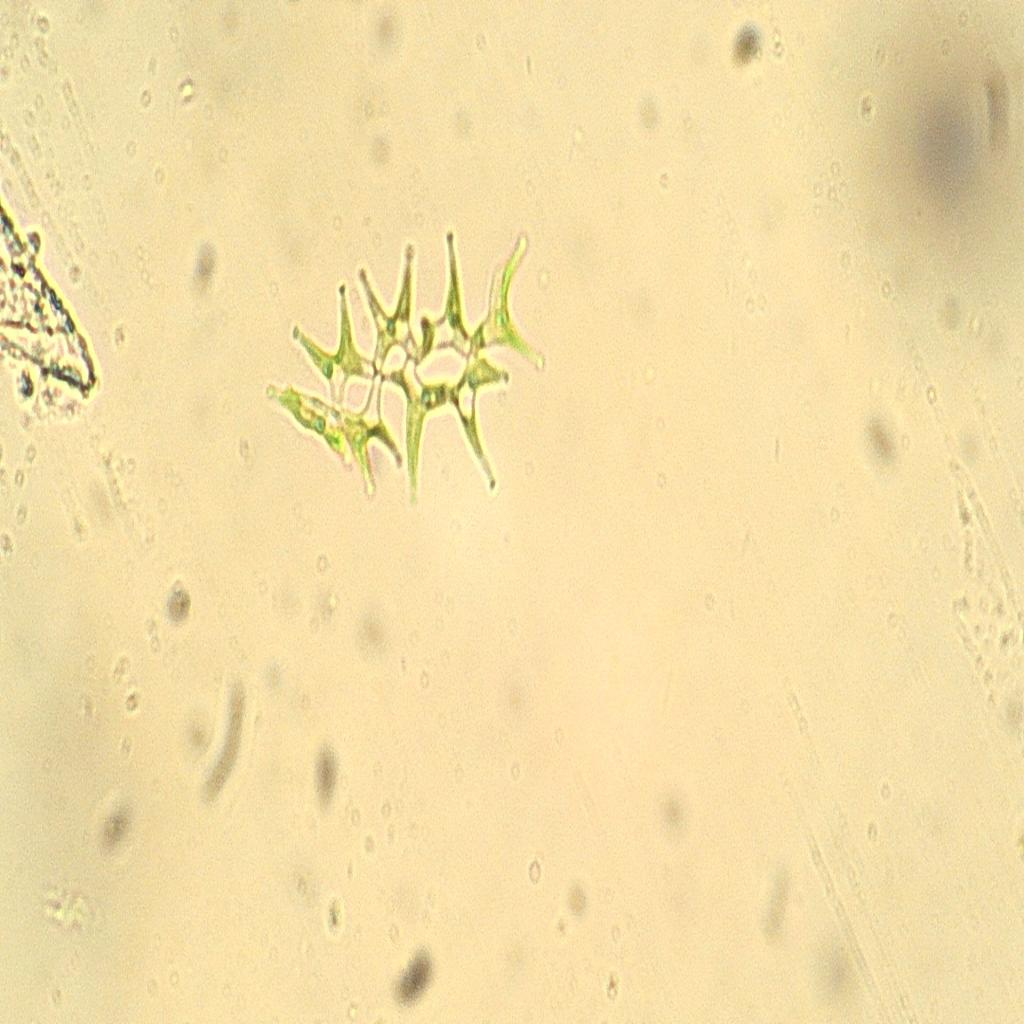Pediastrum_CFI: (262, 222, 560, 518)
